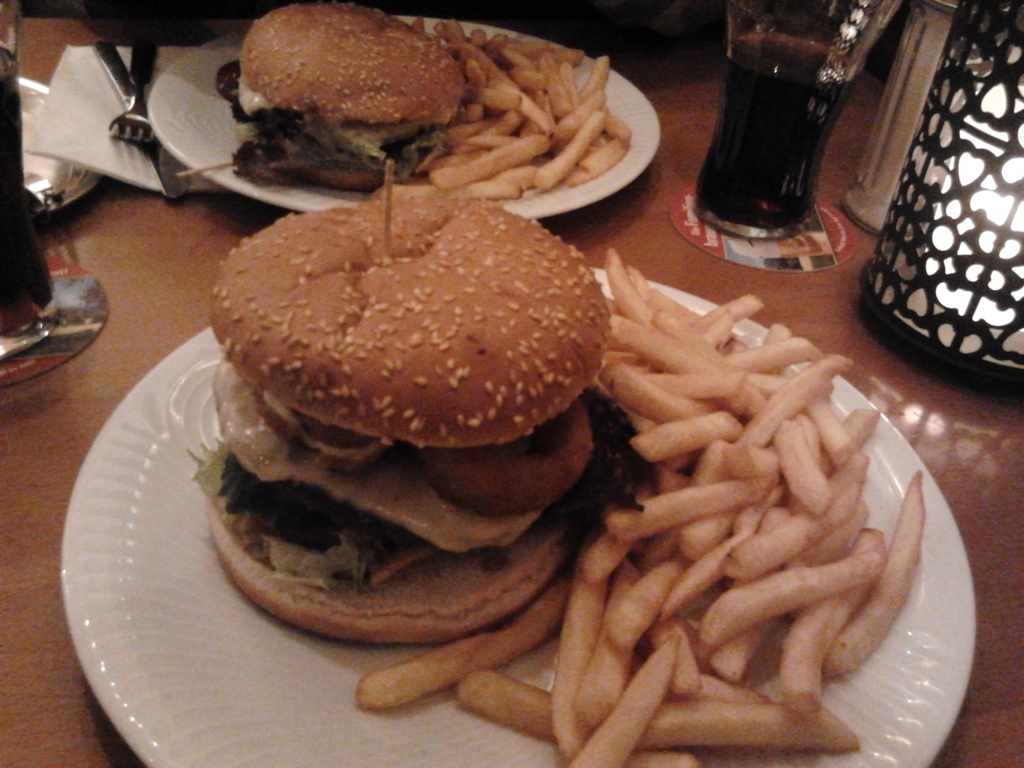French fries: (509, 278, 917, 748), (368, 19, 630, 199)
